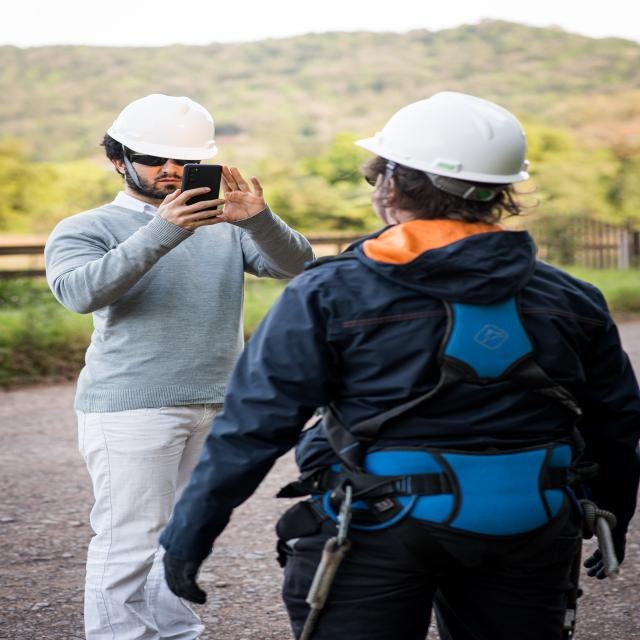capacete: (350, 89, 533, 187), (104, 92, 221, 163)
luva: (156, 538, 214, 608)
